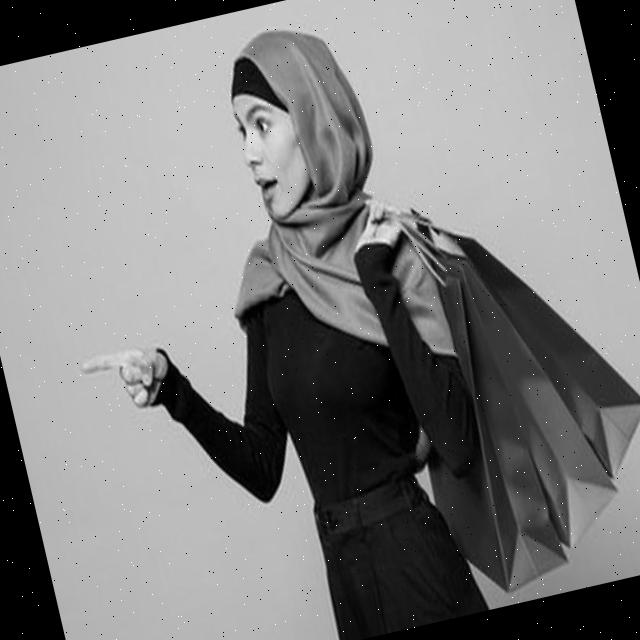Surprised: (228, 81, 324, 222)
